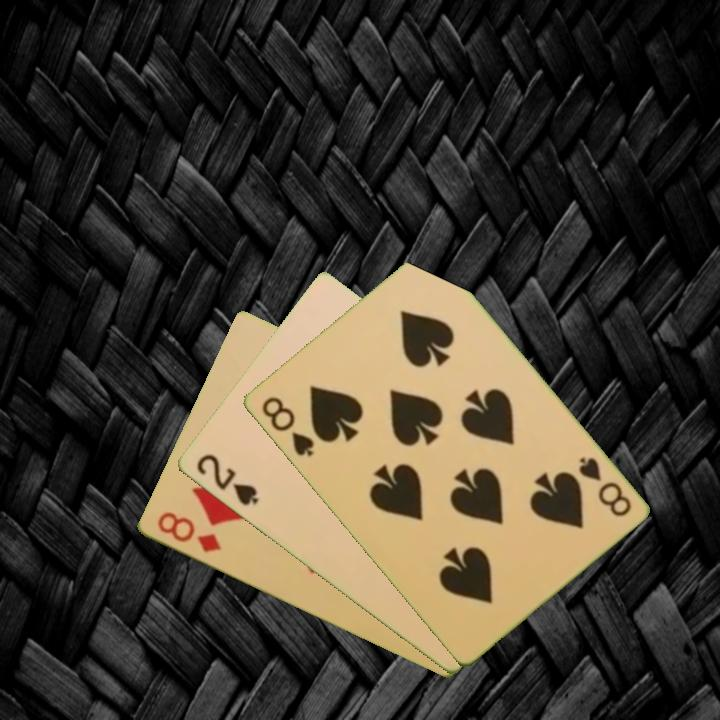2s: (192, 450, 261, 509)
8d: (153, 508, 224, 556)
8s: (257, 393, 317, 460), (574, 453, 634, 520)
